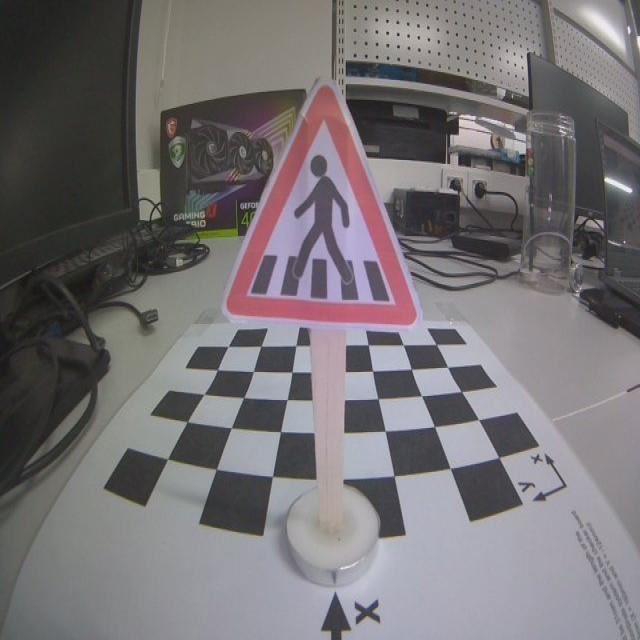Rambu Penyebrangan: (221, 79, 418, 329)
